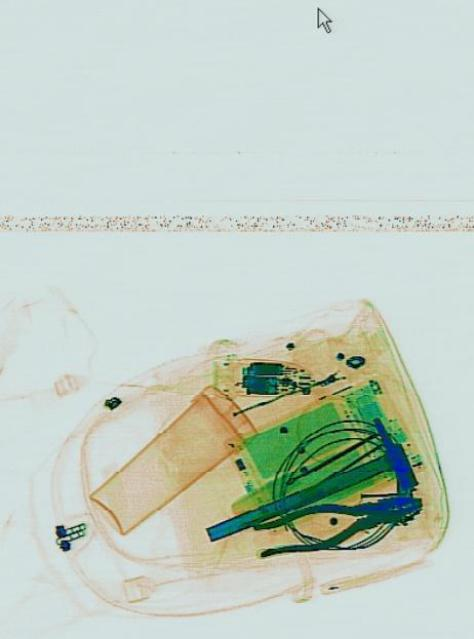Pliers: (249, 480, 422, 563)
